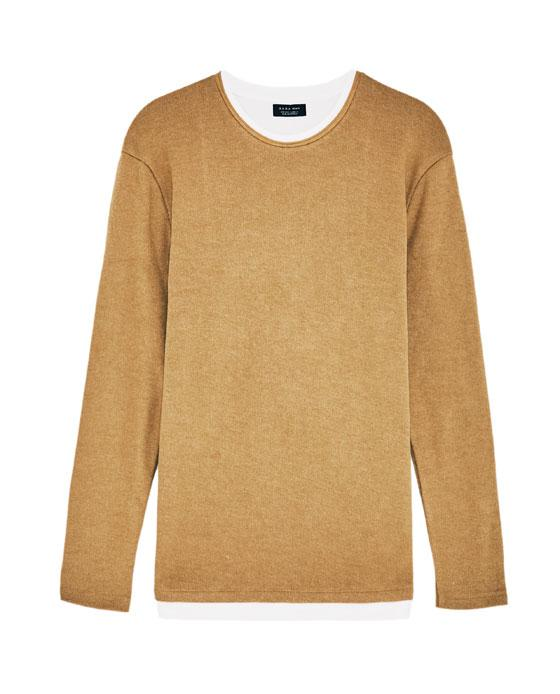teeshirt: (46, 63, 515, 639)
